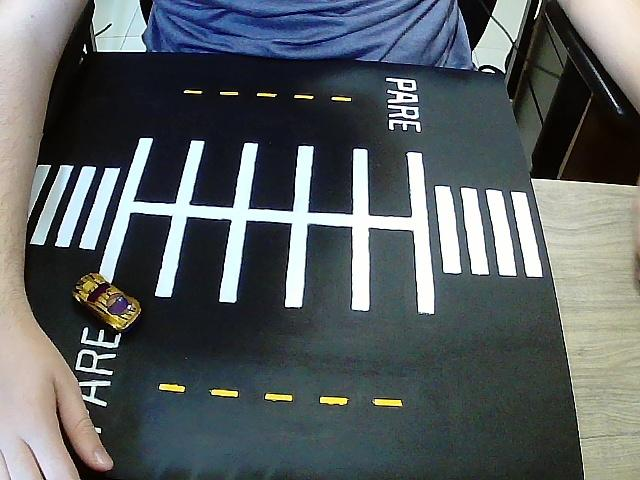Carro: (73, 274, 142, 333)
